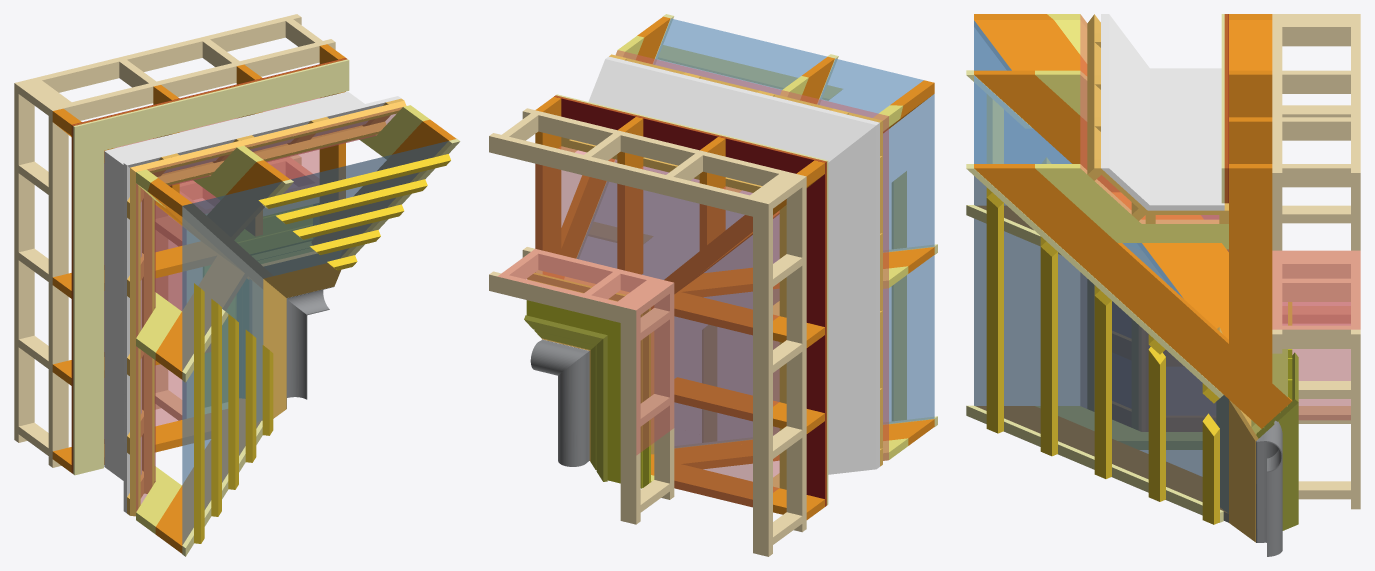
Rendered from svendeprove.OBJ.
The picture shows the model from 3 angles, left to right: view 1: azimuth 30°, elevation 25°; view 2: azimuth 150°, elevation 25°; view 3: azimuth 270°, elevation 25°; orthographic projection. The views are drawn at different scales.
Parts seen in each view (by area): view 1: 1 Optegning, 5 Ramme, 4 Mellemtyk kortstregslinje, 035, A99--S-; view 2: 1 Optegning, A99--S-, 035, 5 Ramme, 4 Mellemtyk kortstregslinje; view 3: 1 Optegning, 035, 4 Mellemtyk kortstregslinje, 5 Ramme, A99--S-.
Part boxes in pixels (x1,y1,x2,y2): 1 Optegning: [52, 44, 456, 553]; 5 Ramme: [14, 14, 335, 467]; 4 Mellemtyk kortstregslinje: [182, 139, 460, 556]; 035: [182, 141, 448, 544]; A99--S-: [104, 97, 402, 511]; 1 Optegning: [535, 16, 934, 524]; A99--S-: [497, 50, 888, 507]; 035: [577, 18, 934, 447]; 5 Ramme: [489, 108, 806, 556]; 4 Mellemtyk kortstregslinje: [524, 14, 937, 488]; 1 Optegning: [974, 14, 1360, 522]; 035: [974, 20, 1228, 522]; 4 Mellemtyk kortstregslinje: [966, 70, 1298, 556]; 5 Ramme: [1272, 14, 1360, 499]; A99--S-: [1080, 14, 1360, 431].
Size of the model in its own units: 1700 by 2050 by 1783.
